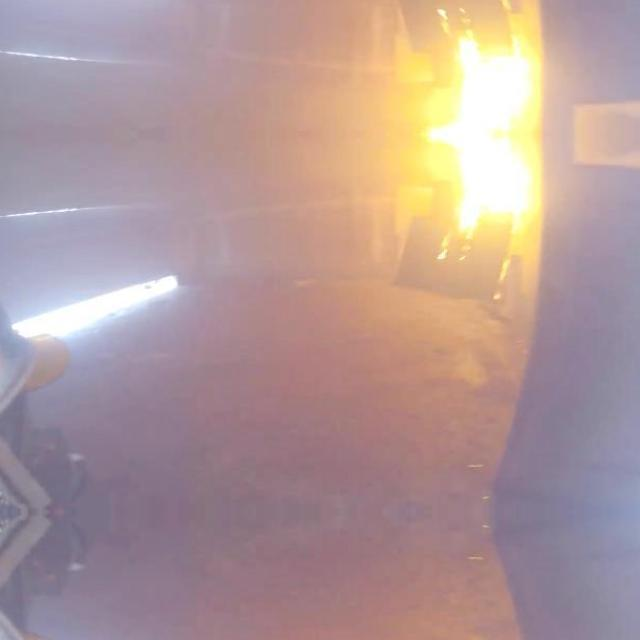smoke: (426, 134, 541, 233), (426, 36, 541, 134)
